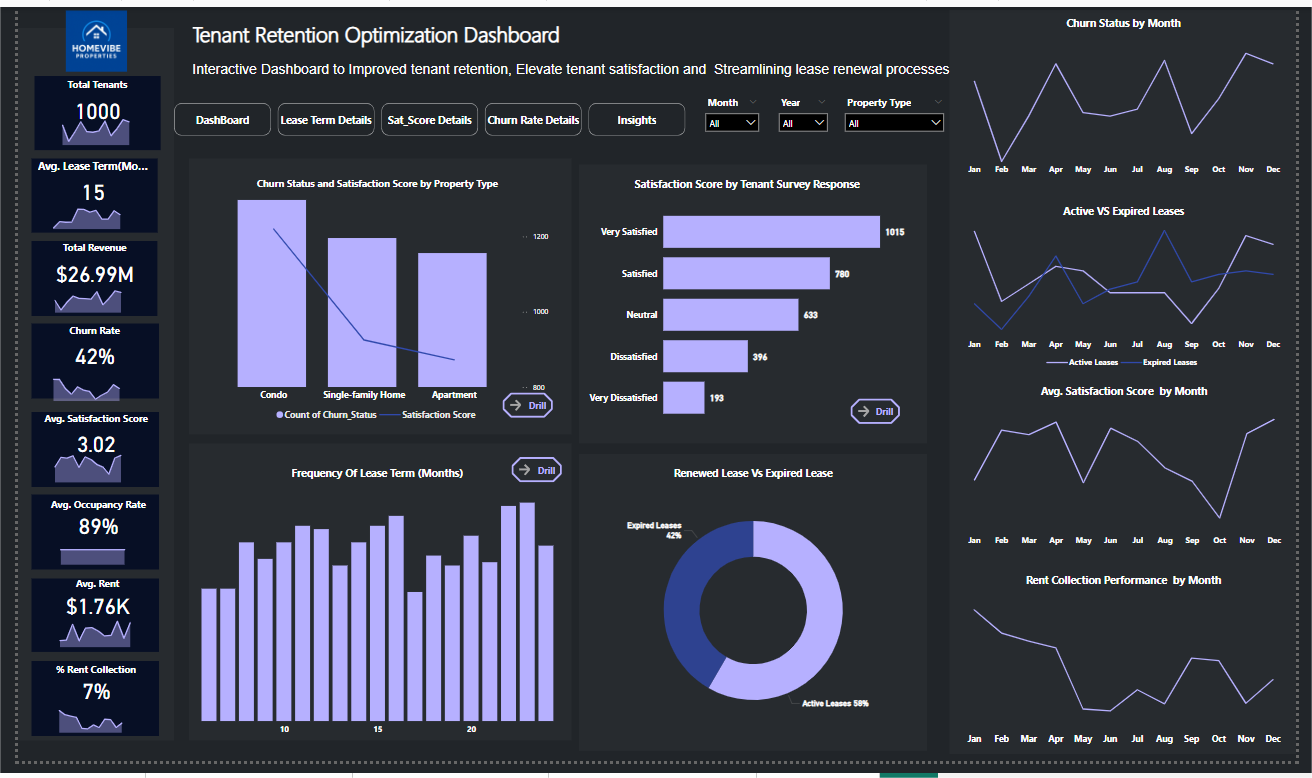

What the dashboard file says about the page in this screenshot:
{"tool":"powerbi","page":{"name":"DashBoard","canvas":[1950,1150],"ordinal":0},"visuals":[{"type":"shape","box":[1420.8,4.6,528.5,1134.8],"z":0},{"type":"shape","box":[0,32,237.9,1086.7],"z":1000},{"type":"shape","box":[260.8,665.8,583.4,453],"z":2000},{"type":"shape","box":[260.8,231.1,583.4,421],"z":3000},{"type":"shape","box":[855.7,240.2,530.8,425.5],"z":4000},{"type":"textbox","box":[259.8,14.4,760.1,62.5],"z":5000},{"type":"shape","box":[20.6,617.7,194.5,114.4],"z":6000},{"type":"shape","box":[20.6,743.5,194.5,114.4],"z":7000},{"type":"shape","box":[20.6,871.7,194.5,112.1],"z":8000},{"type":"shape","box":[20.6,997.5,194.5,114.4],"z":9000},{"type":"shape","box":[20.6,482.7,194.5,114.4],"z":10000},{"type":"card","title":"Churn Rate","fields":{"Values":["Measure Table.Churn_Rate"]},"box":[27.5,482.7,178.5,75.5],"z":11000},{"type":"pageNavigator","box":[238.1,146.7,781.8,50.5],"z":12000},{"type":"card","title":"Avg. Satisfaction Score","fields":{"Values":["Measure Table.Average Satisfaction Score"]},"box":[29.7,617.7,178.5,73.2],"z":13000},{"type":"card","title":"Avg. Occupancy Rate","fields":{"Values":["Avg(property_information.Historical Occupancy Rate Decimal)"]},"box":[32,748.1,180.7,61.8],"z":14000},{"type":"card","title":"Avg. Rent","fields":{"Values":["Avg(lease_details.Rent Amount (USD))"]},"box":[32,869.4,178.5,64.1],"z":15000},{"type":"card","title":"% Rent Collection","fields":{"Values":["Measure Table.Rent Collection Performance"]},"box":[29.7,999.8,178.5,64.1],"z":16000},{"type":"areaChart","fields":{"Y":["Measure Table.Churn_Rate"],"Category":["Date Table.Month"]},"box":[29.7,537.6,167,68.6],"z":17000},{"type":"areaChart","fields":{"Y":["Measure Table.Average Satisfaction Score"],"Category":["Date Table.Month"]},"box":[32,665.8,167,64.1],"z":18000},{"type":"areaChart","fields":{"Y":["Avg(property_information.Historical Occupancy Rate Decimal)"],"Category":["Date Table.Month"]},"box":[41.2,789.3,162.4,66.3],"z":19000},{"type":"areaChart","fields":{"Y":["Avg(lease_details.Rent Amount (USD))"],"Category":["Date Table.Month"]},"box":[38.9,903.7,176.2,77.8],"z":20000},{"type":"areaChart","fields":{"Y":["Measure Table.Rent Collection Performance"],"Category":["Date Table.Month"]},"box":[38.9,1045.5,160.1,66.3],"z":21000},{"type":"lineChart","title":"Churn Status by Month","fields":{"Y":["CountNonNull(lease_details.Churn_Status)"],"Category":["Date Table.MonthName"]},"box":[1436.8,13.7,498.8,251.7],"z":22000},{"type":"lineChart","title":"Active VS Expired Leases","fields":{"Y":["Measure Table.TotalActiveLeases"],"Y2":["Measure Table.TotalExpiredLeases"],"Category":["Date Table.MonthName"]},"box":[1436.8,299.7,498.8,260.8],"z":23000},{"type":"lineChart","title":"Avg. Satisfaction Score  by Month","fields":{"Y":["Measure Table.Average Satisfaction Score"],"Category":["Date Table.MonthName"]},"box":[1436.1,574.9,500.3,257.4],"z":24000},{"type":"lineChart","title":"Rent Collection Performance  by Month","fields":{"Y":["Measure Table.Rent Collection Performance"],"Category":["Date Table.MonthName"]},"box":[1436.8,862.5,498.8,272.3],"z":25000},{"type":"lineStackedColumnComboChart","title":"Churn Status and Satisfaction Score by Property Type","fields":{"Category":["property_information.Property Type"],"Y2":["Sum(tenant_information and feedback.Satisfaction Score)"],"Y":["CountNonNull(lease_details.Churn_Status)"]},"box":[274.5,258.5,546.8,382.1],"z":26000},{"type":"lineStackedColumnComboChart","title":"Frequency Of Lease Term (Months)","fields":{"Y":["CountNonNull(lease_details.Lease ID)"],"Category":["lease_details.Lease Term (Months)"]},"box":[274.5,700.1,546.8,418.7],"z":27000},{"type":"shape","box":[855.7,681.8,530.8,453],"z":28000},{"type":"donutChart","title":"Renewed Lease Vs Expired Lease","fields":{"Y":["Measure Table.TotalActiveLeases","Measure Table.TotalExpiredLeases"]},"box":[874,700.1,494.2,418.7],"z":29000},{"type":"clusteredBarChart","title":"Satisfaction Score by Tenant Survey Response","fields":{"Category":["tenant_information and feedback.Survey Response"],"Y":["Sum(tenant_information and feedback.Satisfaction Score)"]},"box":[864.8,258.5,494.2,393.5],"z":30000},{"type":"actionButton","title":"Drill","box":[752.9,685.6,77,38.5],"z":31000},{"type":"actionButton","title":"Drill","box":[738.5,586.9,77,38.5],"z":32000},{"type":"actionButton","title":"Drill","box":[1269.8,597.1,75.5,38.9],"z":33000},{"type":"slicer","title":"Churn Status by Month","fields":{"Values":["Start Date.MonthName"]},"box":[1039.2,129.9,101,67.4],"z":34000},{"type":"slicer","title":"Churn Status by Month","fields":{"Values":["Start Date.Year"]},"box":[1149.8,129.9,93.8,67.4],"z":35000},{"type":"slicer","title":"Churn Status by Month","fields":{"Values":["property_information.Property Type"]},"box":[1250.8,129.9,170.8,67.4],"z":36000},{"type":"shape","box":[24.1,105.8,192.4,113.1],"z":37000},{"type":"card","title":"Total Tenants","fields":{"Values":["Count(tenant_information and feedback.Tenant ID)"]},"box":[31.3,108.2,178,77],"z":38000},{"type":"areaChart","fields":{"Y":["CountNonNull(tenant_information and feedback.Tenant ID)"],"Category":["Date Table.Month"]},"box":[43.3,153.9,168.4,62.5],"z":39000},{"type":"shape","box":[20.6,356.9,192.2,114.4],"z":40000},{"type":"card","title":"Total Revenue","fields":{"Values":["Measure Table.Total Revenue"]},"box":[27.5,356.9,178.5,75.5],"z":41000},{"type":"areaChart","fields":{"Y":["Measure Table.Total Revenue"],"Category":["Date Table.Month"]},"box":[32,409.5,167,61.8],"z":42000},{"type":"shape","box":[21.6,230.9,192.4,113.1],"z":43000},{"type":"card","title":"Avg. Lease Term(Months)","fields":{"Values":["Avg(lease_details.Lease Term (Months))"]},"box":[24.1,230.9,178,77],"z":44000},{"type":"areaChart","fields":{"Y":["Avg(lease_details.Lease Term (Months))"],"Category":["Date Table.Month"]},"box":[28.9,281.4,168.4,62.5],"z":45000},{"type":"textbox","box":[259.8,77,1176.3,52.9],"z":46000},{"type":"image","box":[19.2,0,202.1,103.4],"z":47000}]}

Visuals, with their boxes in screenshot pixels (x1, y1, x2, y2), scaled from the page's 1950x1150 canvas onto the 1312x778 screenshot:
shape: l=956, t=3, r=1311, b=771
shape: l=0, t=22, r=160, b=757
shape: l=175, t=450, r=568, b=757
shape: l=175, t=156, r=568, b=441
shape: l=576, t=163, r=933, b=450
textbox: l=175, t=10, r=686, b=52
shape: l=14, t=418, r=145, b=495
shape: l=14, t=503, r=145, b=580
shape: l=14, t=590, r=145, b=666
shape: l=14, t=675, r=145, b=752
shape: l=14, t=327, r=145, b=404
"Churn Rate" card: l=19, t=327, r=139, b=378
pageNavigator: l=160, t=99, r=686, b=133
"Avg. Satisfaction Score" card: l=20, t=418, r=140, b=467
"Avg. Occupancy Rate" card: l=22, t=506, r=143, b=548
"Avg. Rent" card: l=22, t=588, r=142, b=632
"% Rent Collection" card: l=20, t=676, r=140, b=720
areaChart - Measure Table.Churn_Rate x Date Table.Month: l=20, t=364, r=132, b=410
areaChart - Measure Table.Average Satisfaction Score x Date Table.Month: l=22, t=450, r=134, b=494
areaChart - Avg(property_information.Historical Occupancy Rate Decimal) x Date Table.Month: l=28, t=534, r=137, b=579
areaChart - Avg(lease_details.Rent Amount (USD)) x Date Table.Month: l=26, t=611, r=145, b=664
areaChart - Measure Table.Rent Collection Performance x Date Table.Month: l=26, t=707, r=134, b=752
"Churn Status by Month" lineChart: l=967, t=9, r=1302, b=180
"Active VS Expired Leases" lineChart: l=967, t=203, r=1302, b=379
"Avg. Satisfaction Score  by Month" lineChart: l=966, t=389, r=1303, b=563
"Rent Collection Performance  by Month" lineChart: l=967, t=584, r=1302, b=768
"Churn Status and Satisfaction Score by Property Type" lineStackedColumnComboChart: l=185, t=175, r=553, b=433
"Frequency Of Lease Term (Months)" lineStackedColumnComboChart: l=185, t=474, r=553, b=757
shape: l=576, t=461, r=933, b=768
"Renewed Lease Vs Expired Lease" donutChart: l=588, t=474, r=921, b=757
"Satisfaction Score by Tenant Survey Response" clusteredBarChart: l=582, t=175, r=914, b=441
"Drill" actionButton: l=507, t=464, r=558, b=490
"Drill" actionButton: l=497, t=397, r=549, b=423
"Drill" actionButton: l=854, t=404, r=905, b=430
"Churn Status by Month" slicer: l=699, t=88, r=767, b=133
"Churn Status by Month" slicer: l=774, t=88, r=837, b=133
"Churn Status by Month" slicer: l=842, t=88, r=956, b=133
shape: l=16, t=72, r=146, b=148
"Total Tenants" card: l=21, t=73, r=141, b=125
areaChart - CountNonNull(tenant_information and feedback.Tenant ID) x Date Table.Month: l=29, t=104, r=142, b=146
shape: l=14, t=241, r=143, b=319
"Total Revenue" card: l=19, t=241, r=139, b=293
areaChart - Measure Table.Total Revenue x Date Table.Month: l=22, t=277, r=134, b=319
shape: l=15, t=156, r=144, b=233
"Avg. Lease Term(Months)" card: l=16, t=156, r=136, b=208
areaChart - Avg(lease_details.Lease Term (Months)) x Date Table.Month: l=19, t=190, r=133, b=233
textbox: l=175, t=52, r=966, b=88
image: l=13, t=0, r=149, b=70
